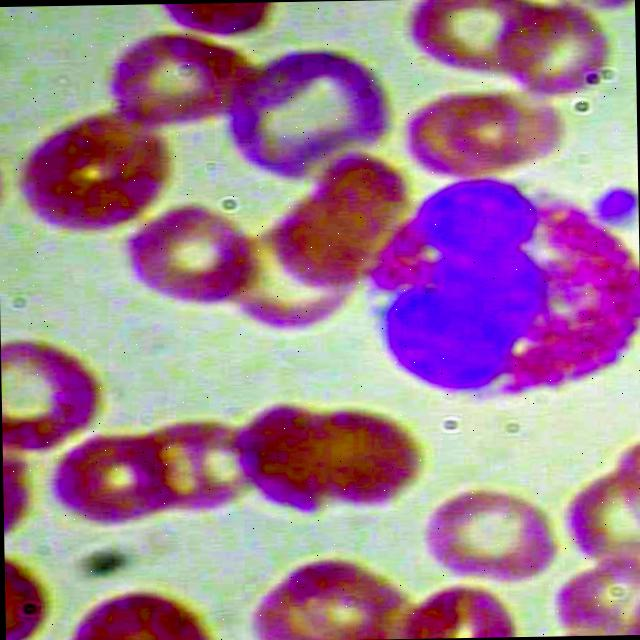RBC: (6, 95, 188, 232), (108, 198, 260, 312), (416, 478, 566, 592), (101, 22, 252, 135), (292, 400, 426, 518), (403, 0, 558, 90), (48, 426, 170, 534), (486, 0, 612, 102)
WBC: (353, 162, 640, 407)
